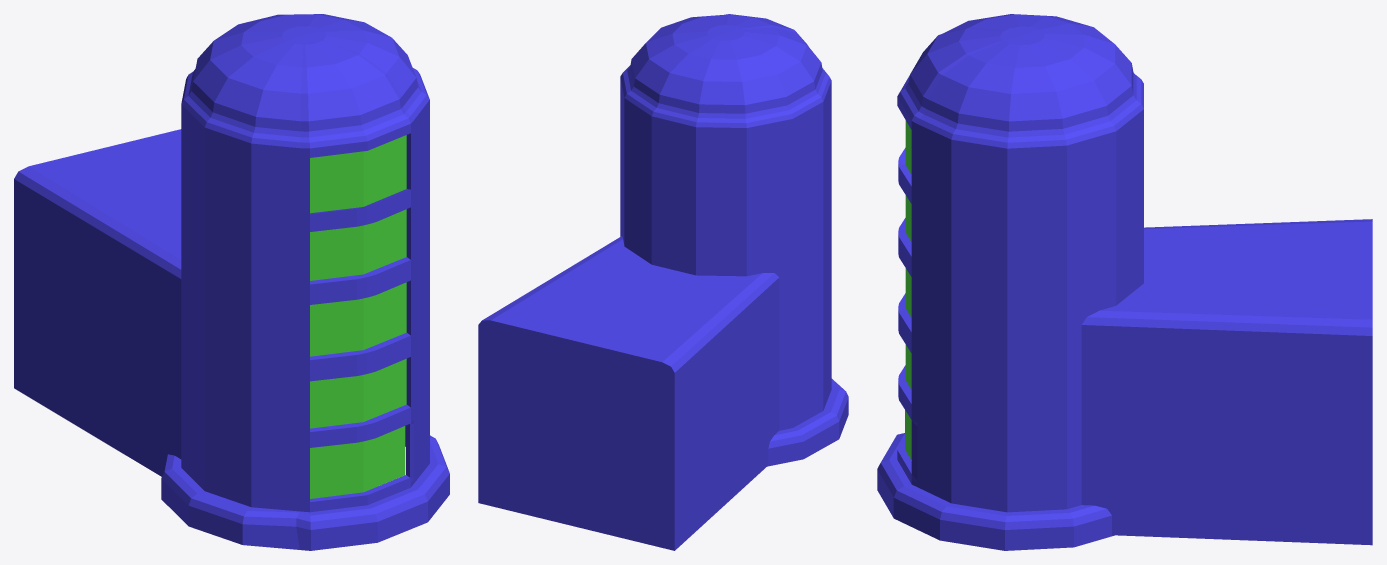
The model's file is Models_0.2 EnergyBank.fbx.
3 renders of one model, left to right at view 1: azimuth 30°, elevation 25°; view 2: azimuth 150°, elevation 25°; view 3: azimuth 270°, elevation 25°, orthographic. The views are drawn at different scales.
Parts seen in each view (by area): view 1: Circle; view 2: Circle; view 3: Circle.
Boxes of the visible parts, bbox=[...] form: Circle: bbox=[14, 14, 449, 550]; Circle: bbox=[478, 14, 848, 550]; Circle: bbox=[877, 14, 1372, 550].
Bounding box in the file's own units: 92.04 × 160 × 158.
